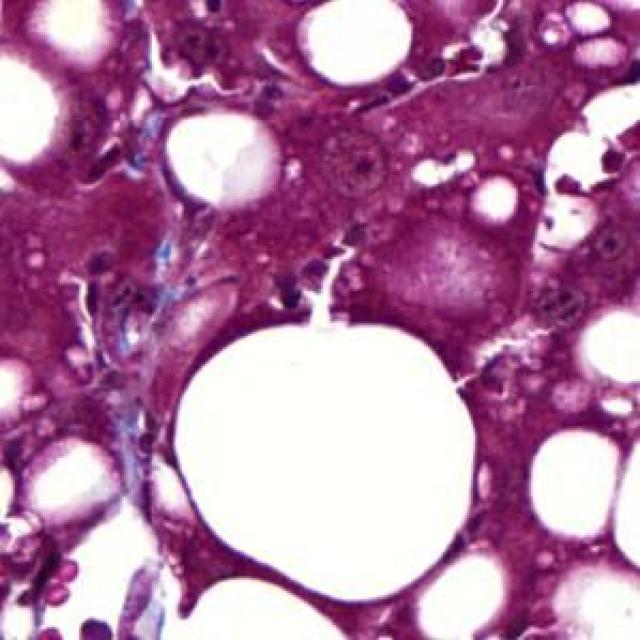steatosis: (165, 317, 494, 608), (165, 109, 289, 208)
